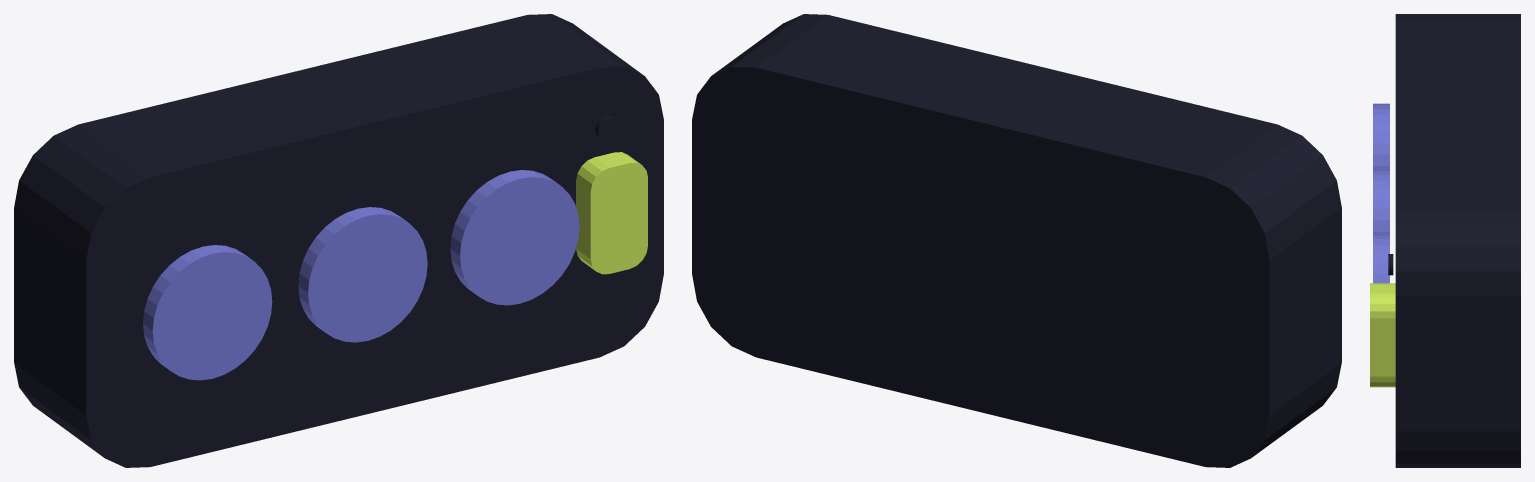
The model's file is powerstrip.glb.
3 renders of one model, left to right at view 1: azimuth 30°, elevation 25°; view 2: azimuth 150°, elevation 25°; view 3: azimuth 270°, elevation 25°, orthographic. The views are drawn at different scales.
Parts seen in each view (by area): view 1: case, socket-0.52, socket-0.06, socket0.39, switch; view 2: case; view 3: case, switch, socket-0.52, socket-0.06, socket0.39.
Boxes of the visible parts, bbox=[...] form: case: bbox=[14, 14, 663, 467]; socket-0.52: bbox=[143, 245, 272, 380]; socket-0.06: bbox=[298, 207, 427, 342]; socket0.39: bbox=[450, 170, 579, 305]; switch: bbox=[576, 152, 647, 274]; case: bbox=[692, 14, 1341, 467]; case: bbox=[1395, 14, 1520, 467]; switch: bbox=[1370, 283, 1395, 387]; socket-0.52: bbox=[1373, 103, 1389, 169]; socket-0.06: bbox=[1373, 169, 1389, 233]; socket0.39: bbox=[1373, 234, 1389, 283].
Bounding box in the file's own units: 1.71 × 0.82 × 0.4455.
